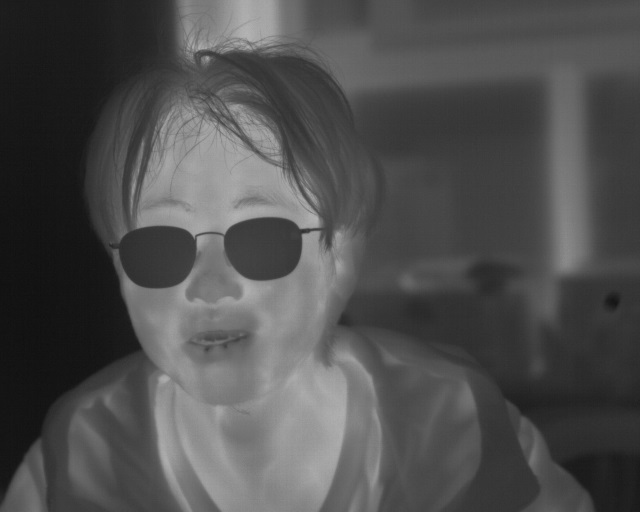face: (1, 99, 138, 289), (325, 70, 418, 194)
